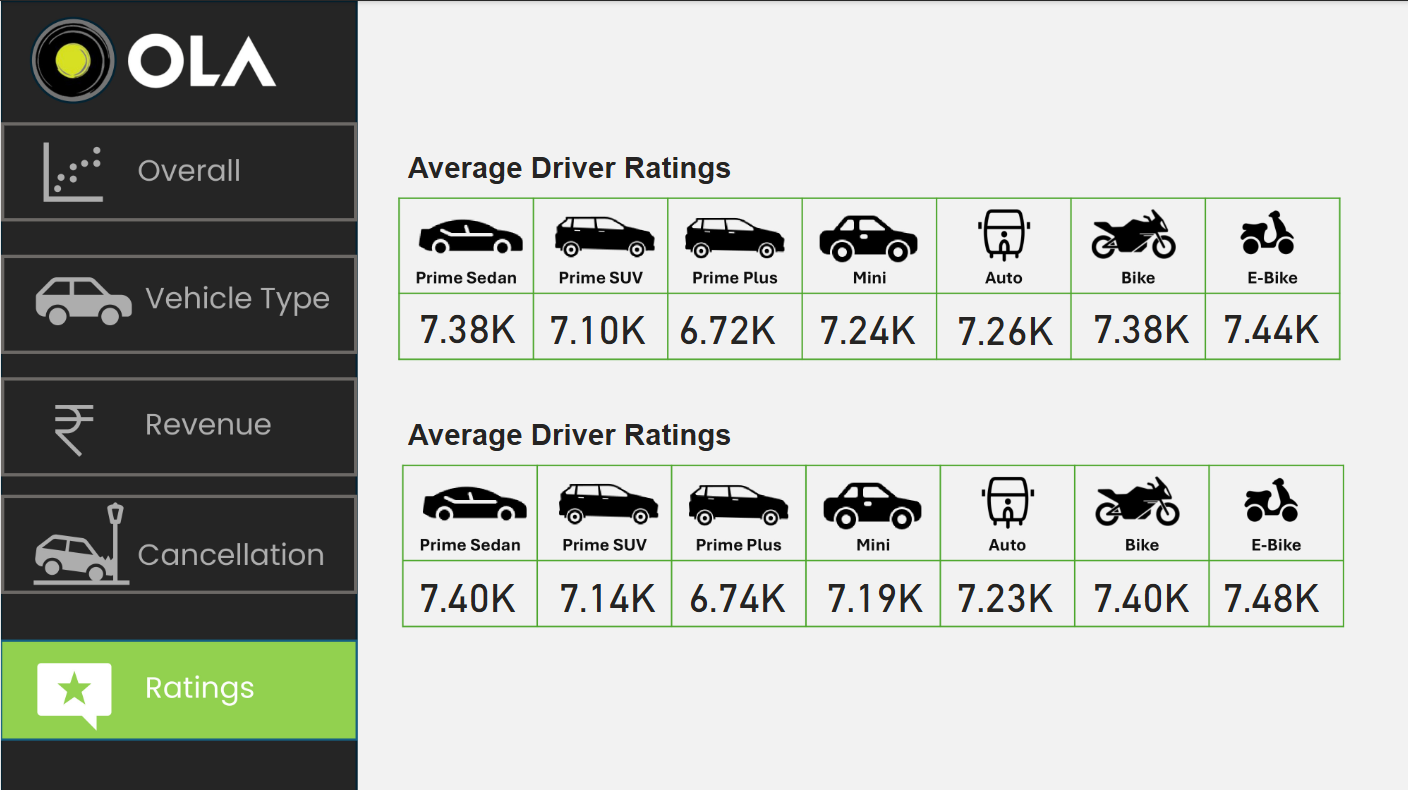

Layout of this report page (visuals, bound fields, positions):
{"tool":"powerbi","page":{"name":"Ratings","canvas":[1280,720],"ordinal":4},"visuals":[{"type":"actionButton","box":[0,110,323.3,90],"z":0},{"type":"actionButton","box":[0,341.7,323.3,90],"z":1000},{"type":"actionButton","box":[0,448.3,323.3,90],"z":2000},{"type":"actionButton","box":[0,230,323.3,90],"z":3000},{"type":"card","fields":{"Values":["Sum(July.Customer_Rating)"]},"box":[363.6,267.6,118,53.5],"z":4000},{"type":"card","fields":{"Values":["Sum(July.Customer_Rating)"]},"box":[481.6,269,118,53.5],"z":5000},{"type":"card","fields":{"Values":["Sum(July.Customer_Rating)"]},"box":[599.7,269,118,53.5],"z":6000},{"type":"card","fields":{"Values":["Sum(July.Customer_Rating)"]},"box":[727.3,269,118,53.5],"z":7000},{"type":"card","fields":{"Values":["Sum(July.Customer_Rating)"]},"box":[851.8,269.4,118.2,53.5],"z":8000},{"type":"card","fields":{"Values":["Sum(July.Customer_Rating)"]},"box":[975.6,267.6,118,53.5],"z":9000},{"type":"card","fields":{"Values":["Sum(July.Customer_Rating)"]},"box":[1093.7,267.6,118,53.5],"z":10000},{"type":"card","fields":{"Values":["Sum(July.Driver_Ratings)"]},"box":[363.6,511.8,118,53.5],"z":11000},{"type":"card","fields":{"Values":["Sum(July.Driver_Ratings)"]},"box":[491.3,511.8,118,53.5],"z":12000},{"type":"card","fields":{"Values":["Sum(July.Driver_Ratings)"]},"box":[609.3,511.8,118,53.5],"z":13000},{"type":"card","fields":{"Values":["Sum(July.Driver_Ratings)"]},"box":[734.1,511.8,118,53.5],"z":14000},{"type":"card","fields":{"Values":["Sum(July.Driver_Ratings)"]},"box":[852.1,511.8,118,53.5],"z":15000},{"type":"card","fields":{"Values":["Sum(July.Driver_Ratings)"]},"box":[975.6,511.8,118,53.5],"z":16000},{"type":"card","fields":{"Values":["Sum(July.Driver_Ratings)"]},"box":[1093.7,511.8,118,53.5],"z":17000},{"type":"textbox","box":[364,131.4,369.8,45.3],"z":18000},{"type":"textbox","box":[364,374.4,408.1,45.3],"z":19000}]}

Visuals, with their boxes on the page's 1280x720 design canvas (x1, y1, x2, y2). These are canvas units, not pixel positions in the 1408x790 screenshot, which may show the page scaled, cropped or inside an application window:
actionButton: <box>0,110,323,200</box>
actionButton: <box>0,342,323,432</box>
actionButton: <box>0,448,323,538</box>
actionButton: <box>0,230,323,320</box>
card - Sum(July.Customer_Rating): <box>364,268,482,321</box>
card - Sum(July.Customer_Rating): <box>482,269,600,322</box>
card - Sum(July.Customer_Rating): <box>600,269,718,322</box>
card - Sum(July.Customer_Rating): <box>727,269,845,322</box>
card - Sum(July.Customer_Rating): <box>852,269,970,323</box>
card - Sum(July.Customer_Rating): <box>976,268,1094,321</box>
card - Sum(July.Customer_Rating): <box>1094,268,1212,321</box>
card - Sum(July.Driver_Ratings): <box>364,512,482,565</box>
card - Sum(July.Driver_Ratings): <box>491,512,609,565</box>
card - Sum(July.Driver_Ratings): <box>609,512,727,565</box>
card - Sum(July.Driver_Ratings): <box>734,512,852,565</box>
card - Sum(July.Driver_Ratings): <box>852,512,970,565</box>
card - Sum(July.Driver_Ratings): <box>976,512,1094,565</box>
card - Sum(July.Driver_Ratings): <box>1094,512,1212,565</box>
textbox: <box>364,131,734,177</box>
textbox: <box>364,374,772,420</box>
